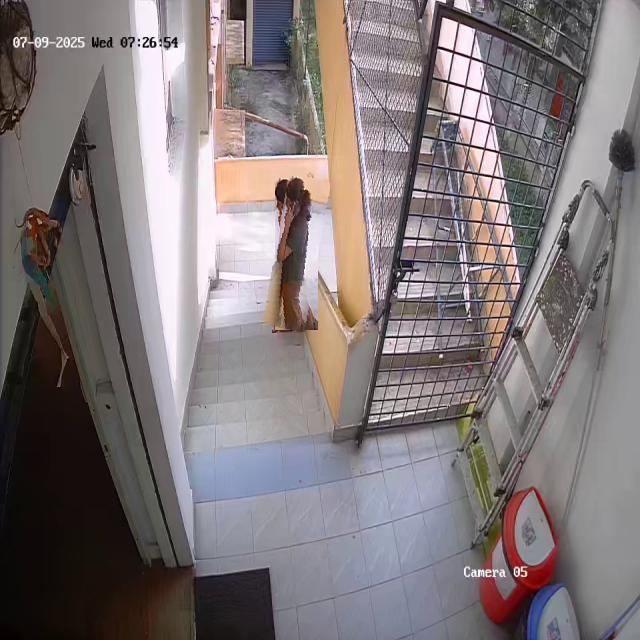person: (269, 177, 324, 331)
